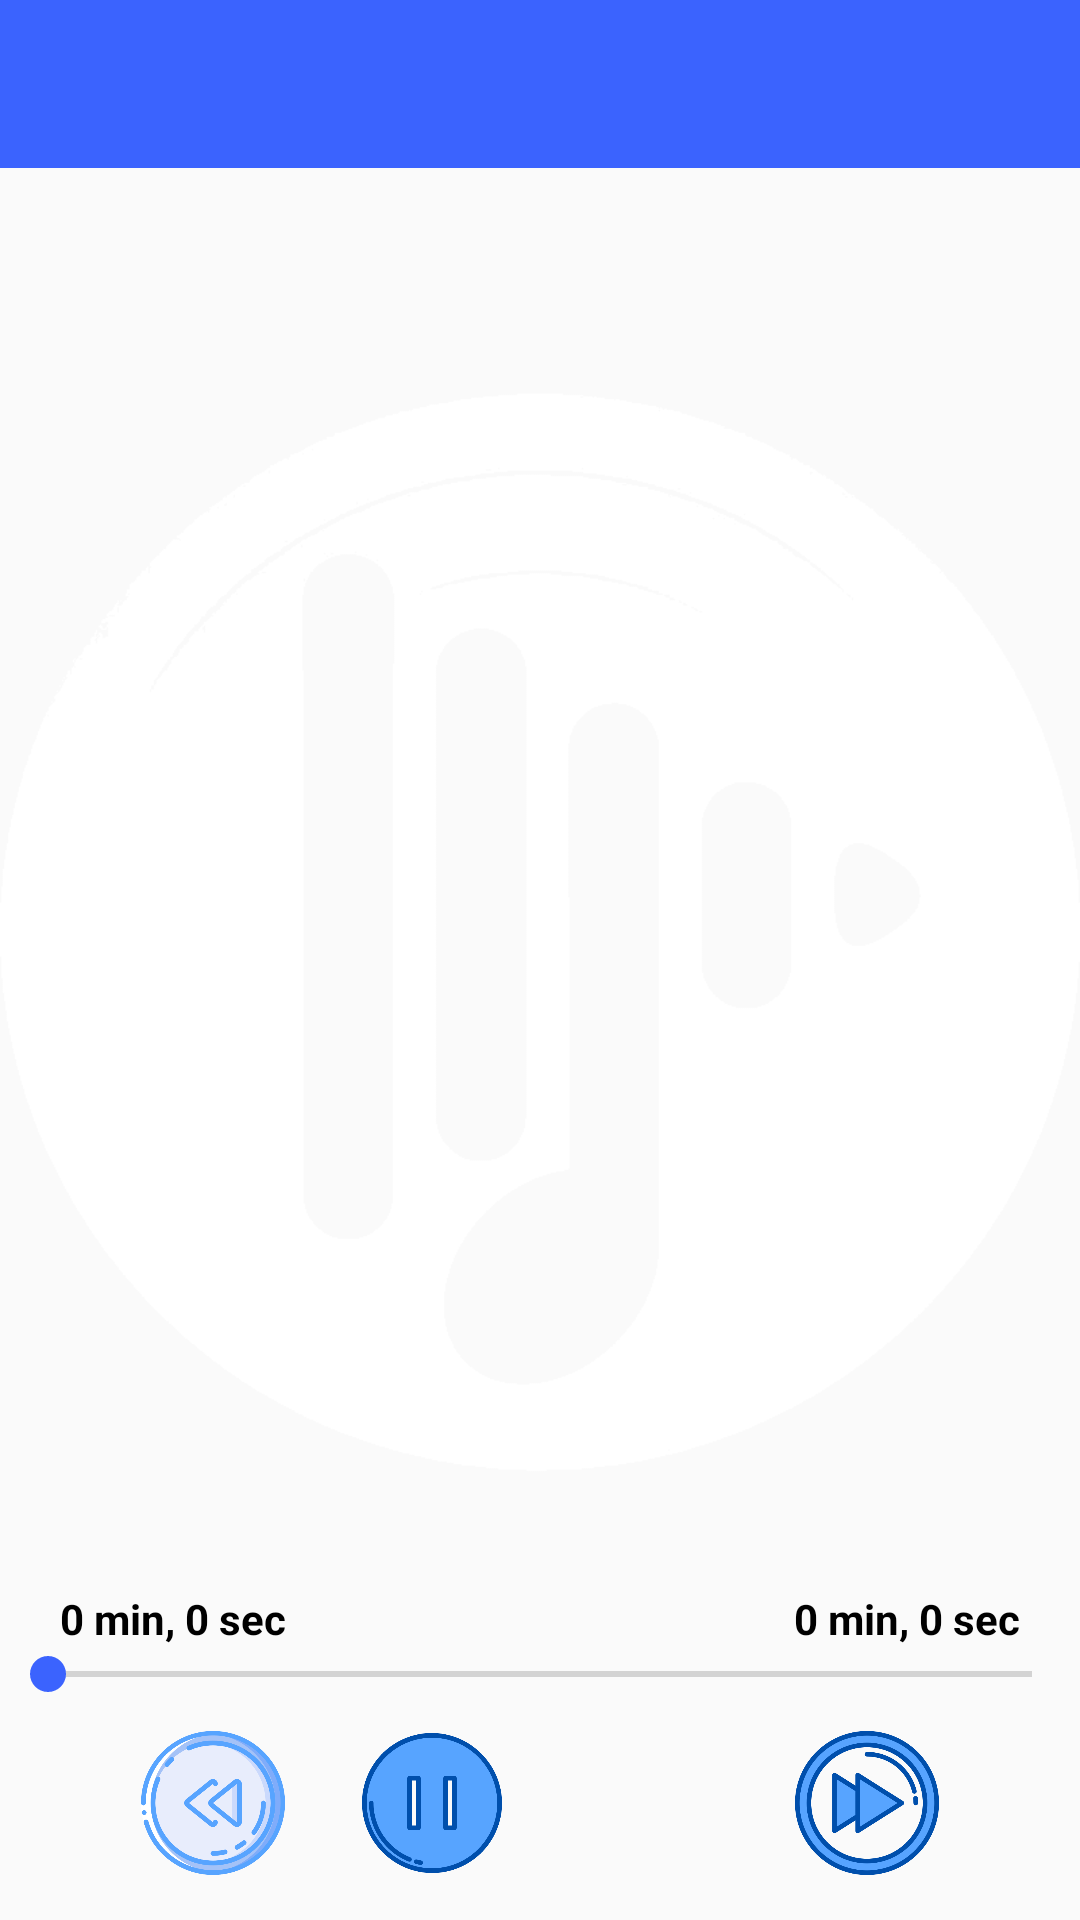

Icons on this 1080px×1920px Android screen, each with the point to tap as (x=x, y=y):
forward: (x=867, y=1803)
pause: (x=432, y=1803)
rewind: (x=213, y=1803)
